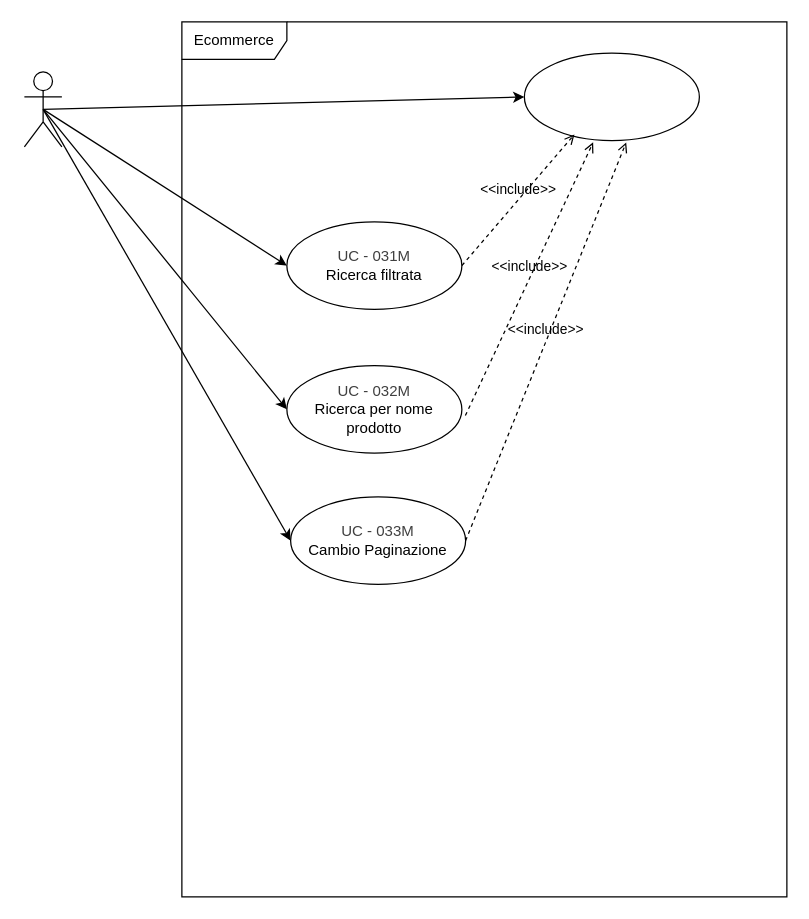
Some shapes in this 809 by 919 pixel diagram are drawn without their labels. The centre of each missing label's shape, as x and y in pixels:
"UC - 030 M Visualizzazione prodotti" belongs at (x=611, y=96).
"Utente" belongs at (x=42, y=109).
